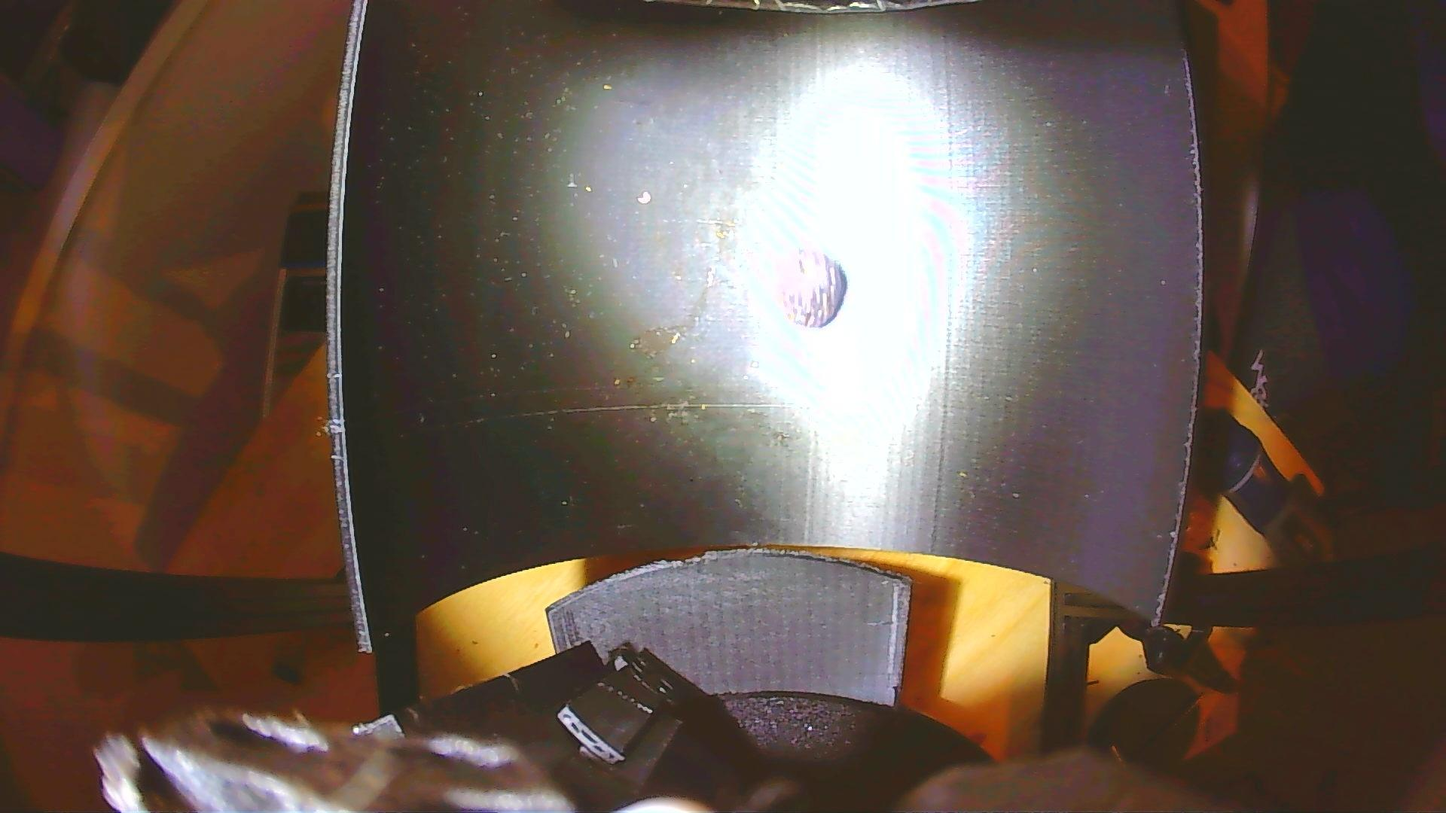berry: (775, 249, 846, 327)
